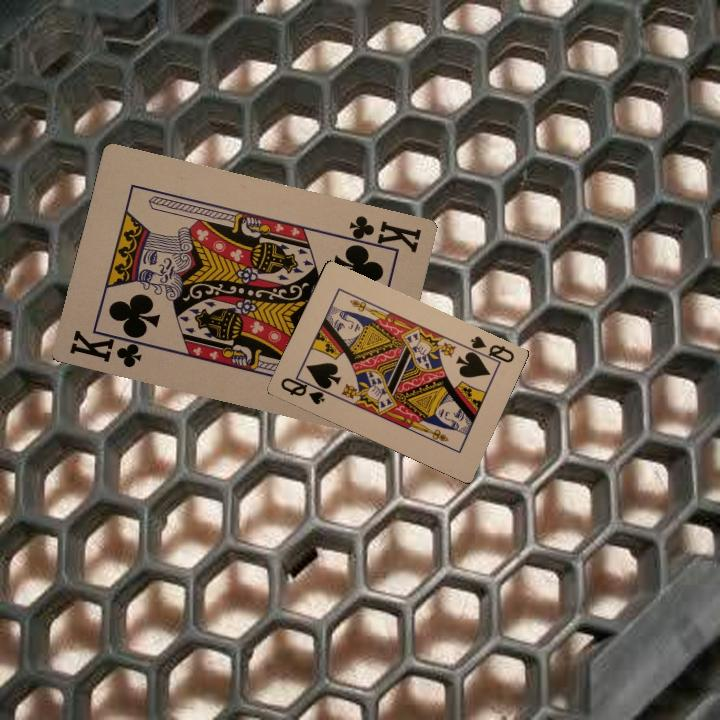Kc: (338, 211, 424, 256), (65, 325, 150, 370)
Qs: (463, 332, 517, 368), (276, 373, 332, 407)
